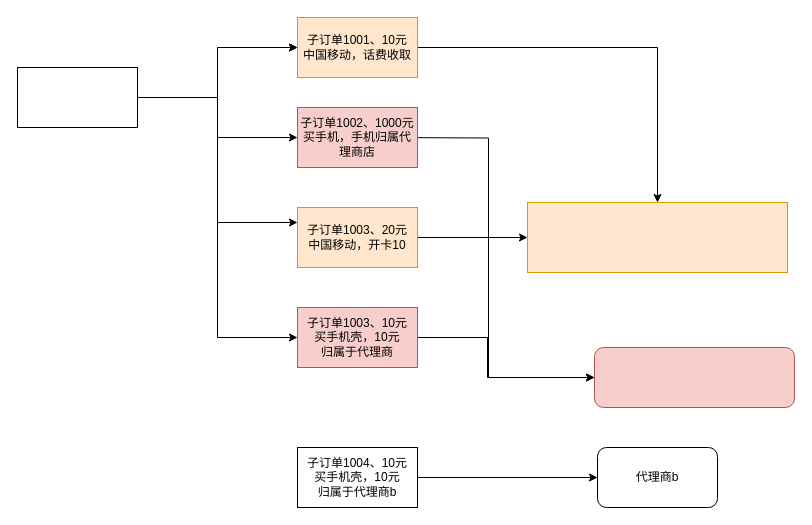
Image size: 812x525. Some labels were removed from this diagram. Each missing label, with the centre of its shape:
"crm订单" belongs at (77,97).
"代理商a payment.pay.doOrderPay 终端支付收银台" belongs at (694,377).
"统一支付收银台 payment.pay.createPayDetail 移动支付收银台" belongs at (657,237).
